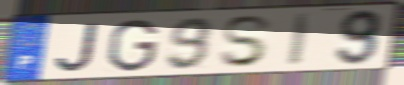9: (332, 8, 383, 68), (164, 16, 215, 72)
G: (106, 18, 161, 74)
I: (285, 11, 315, 67)
J: (53, 21, 103, 74)
S: (217, 14, 275, 70)
